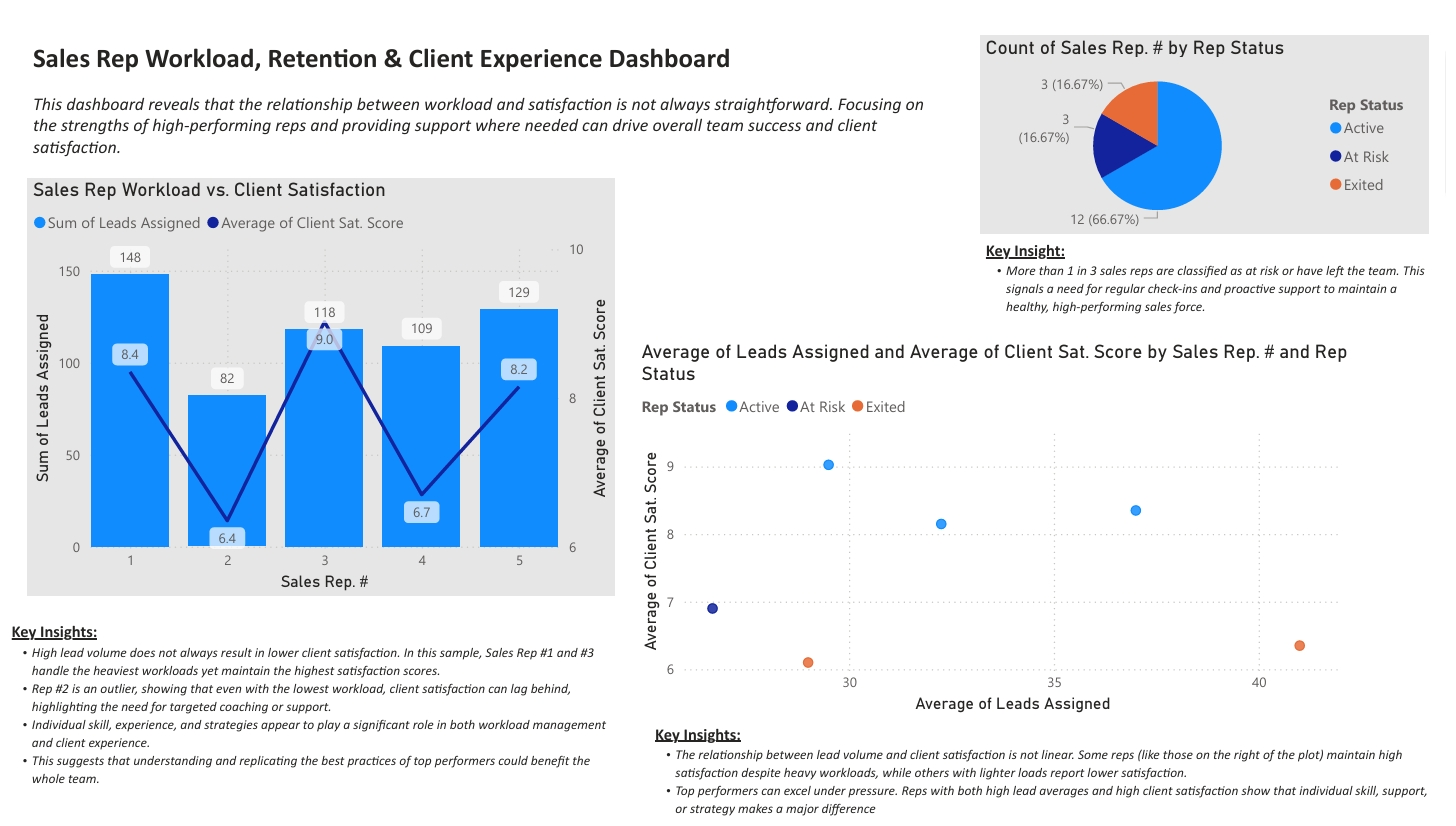

Layout of this report page (visuals, bound fields, positions):
{"tool":"powerbi","page":{"name":"Page 1","canvas":[1280,720],"ordinal":0},"visuals":[{"type":"lineStackedColumnComboChart","title":"Sales Rep Workload vs. Client Satisfaction","fields":{"Y2":["Avg(fintech_sales_rep_sample_data_simulated.Client Sat. Score)"],"Category":["fintech_sales_rep_sample_data_simulated.Sales Rep. #"],"Y":["Sum(fintech_sales_rep_sample_data_simulated.Leads Assigned)"]},"box":[19.2,148.2,521.4,370.5],"z":0},{"type":"pieChart","fields":{"Category":["fintech_sales_rep_sample_data_simulated.Rep Status"],"Y":["CountNonNull(fintech_sales_rep_sample_data_simulated.Sales Rep. #)"]},"box":[865.9,20.6,399.3,177],"z":1},{"type":"scatterChart","fields":{"X":["Avg(fintech_sales_rep_sample_data_simulated.Leads Assigned)"],"Y":["Avg(fintech_sales_rep_sample_data_simulated.Client Sat. Score)"],"Category":["fintech_sales_rep_sample_data_simulated.Sales Rep. #"],"Series":["fintech_sales_rep_sample_data_simulated.Rep Status"]},"box":[559.9,292.3,639.5,336.2],"z":2},{"type":"textbox","box":[19.2,20.6,824.7,116.6],"z":3},{"type":"textbox","box":[0,537,540,183],"z":4},{"type":"textbox","box":[572.2,628.5,708.1,91.9],"z":5},{"type":"textbox","box":[865.9,197.6,414.4,94.7],"z":6}]}

Visuals, with their boxes in screenshot pixels (x1, y1, x2, y2), scaled from the page's 1280x720 canvas onto the 1456x826 screenshot:
"Sales Rep Workload vs. Client Satisfaction" lineStackedColumnComboChart: l=22, t=170, r=615, b=595
pieChart - fintech_sales_rep_sample_data_simulated.Rep Status x CountNonNull(fintech_sales_rep_sample_data_simulated.Sales Rep. #): l=985, t=24, r=1439, b=227
scatterChart - Avg(fintech_sales_rep_sample_data_simulated.Leads Assigned) x Avg(fintech_sales_rep_sample_data_simulated.Client Sat. Score): l=637, t=335, r=1364, b=721
textbox: l=22, t=24, r=960, b=157
textbox: l=0, t=616, r=614, b=825
textbox: l=651, t=721, r=1455, b=825
textbox: l=985, t=227, r=1455, b=335
